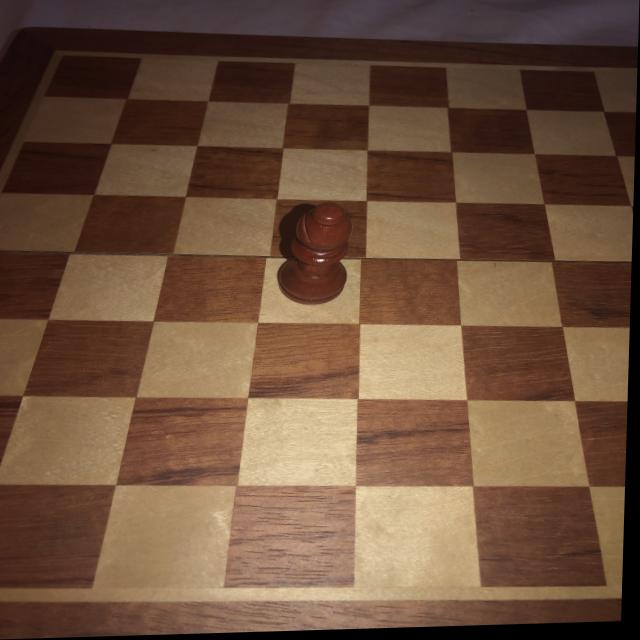black_bishop: (280, 203, 354, 308)
